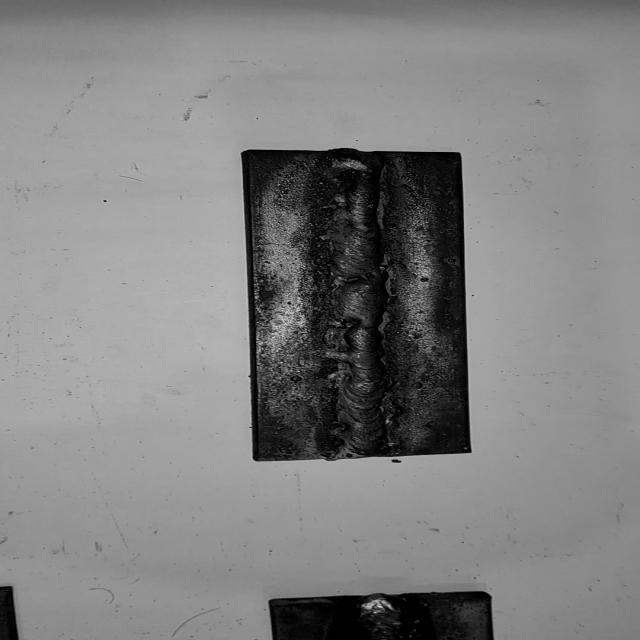Bad Weld: (332, 152, 388, 456)
Defect: (306, 316, 404, 363), (347, 599, 424, 640)
